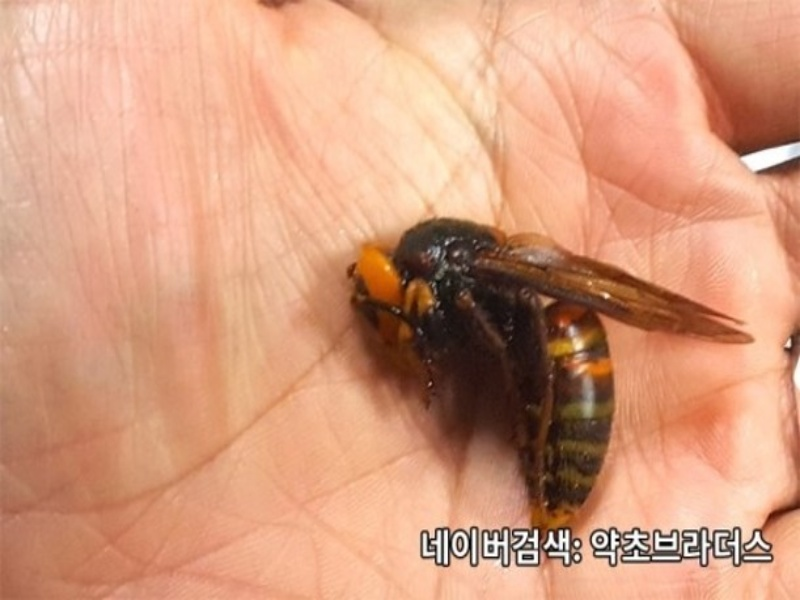asian_giant_hornet: (336, 216, 737, 518)
